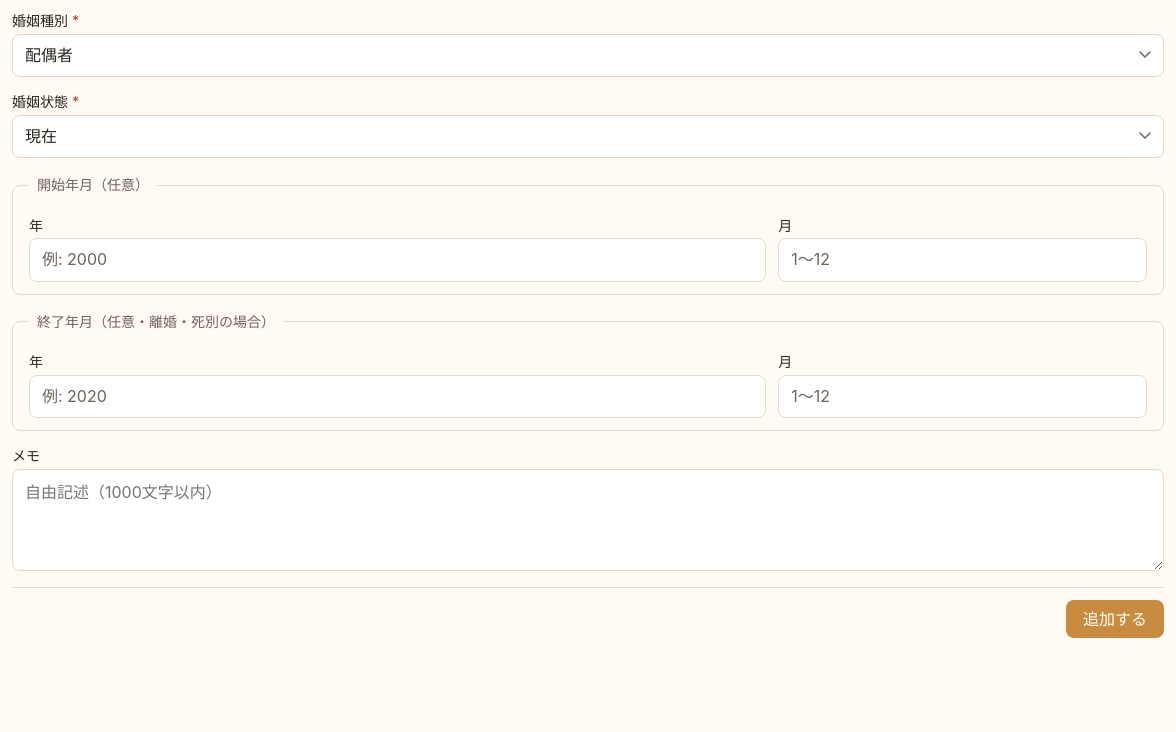
it: RelationForm (kind=marriage) › バリデーションエラー › endYear < startYear で submit → 「終了年は開始年以降を入力してください」エラーが表示される
Type "2020" into the number field labelled "年" below "開始年月（任意）" at (398, 260), box [30, 239, 765, 281]
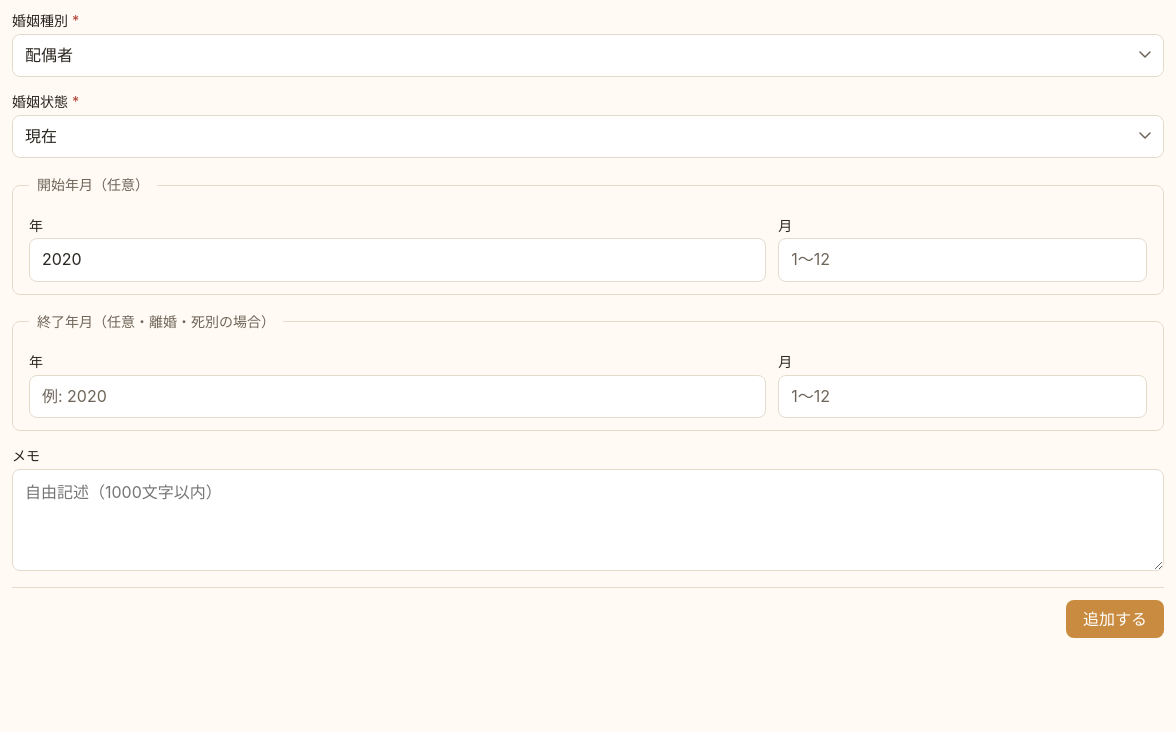
Type "2010" into the number field labelled "年" below "終了年月（任意・離婚・死別の場合）" at (398, 396), box [30, 376, 765, 417]
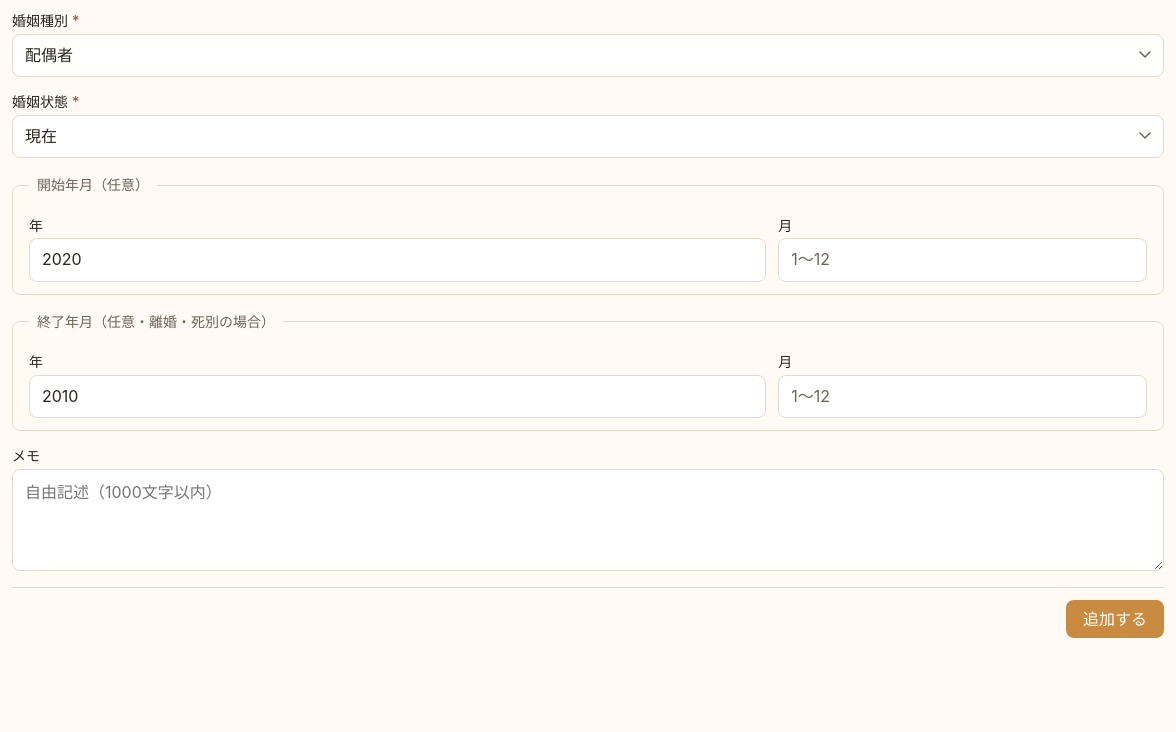
Click the button "追加する" at (1115, 619), box [1066, 600, 1164, 638]
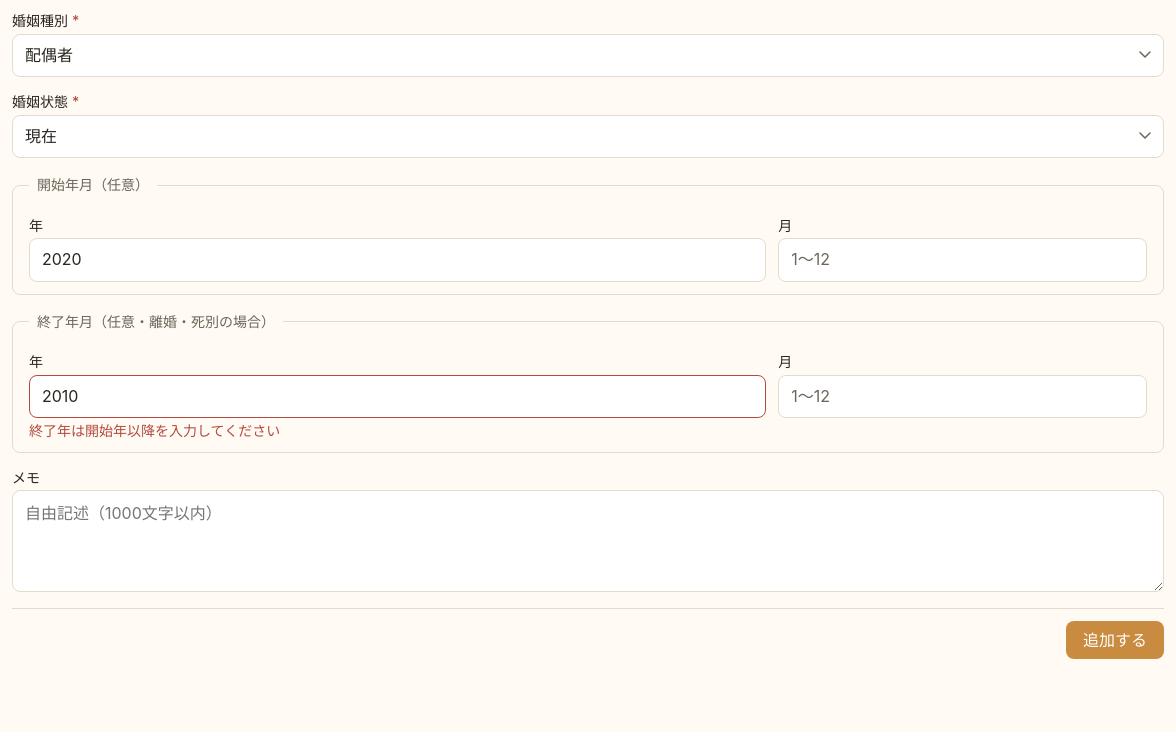
Check: the text "終了年は開始年以降を入力してください" is shown, box [29, 422, 280, 439]
